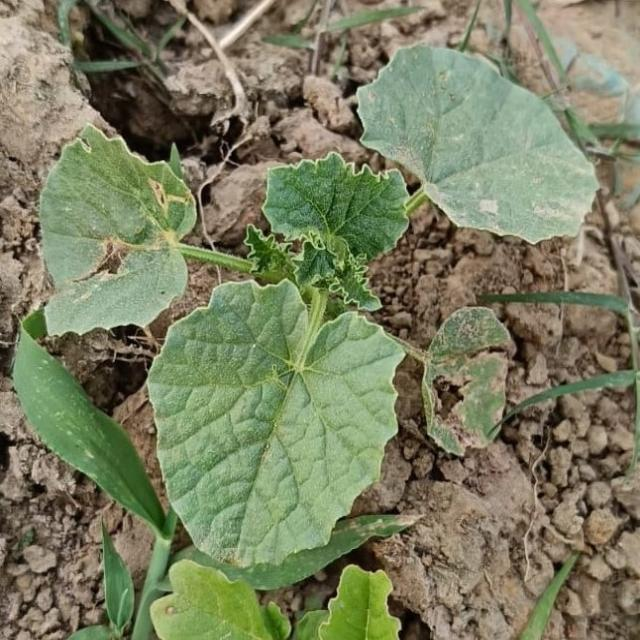plant: (41, 127, 411, 566), (359, 45, 598, 242), (424, 308, 510, 453)
